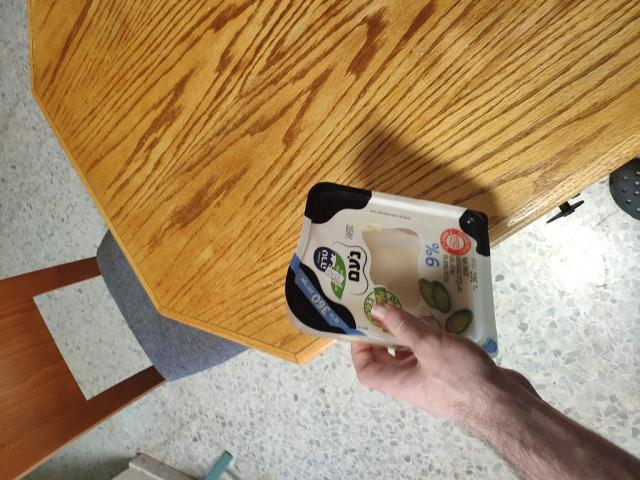cheese: (275, 188, 541, 348)
